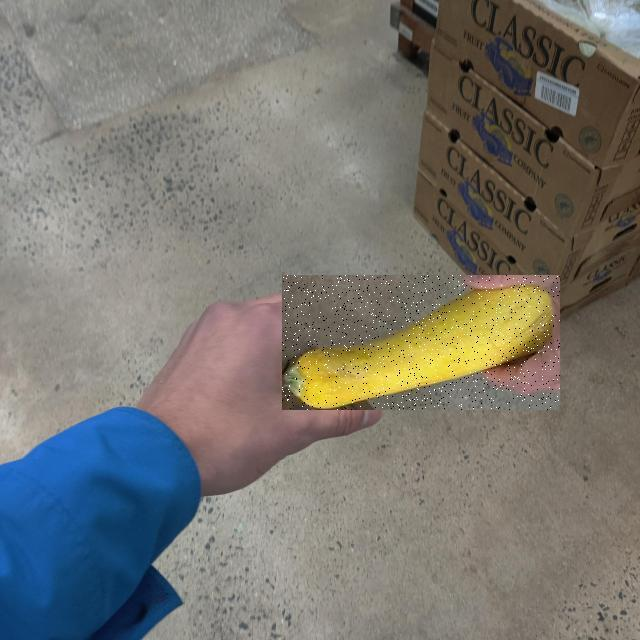Zuccini: (282, 275, 560, 410)
